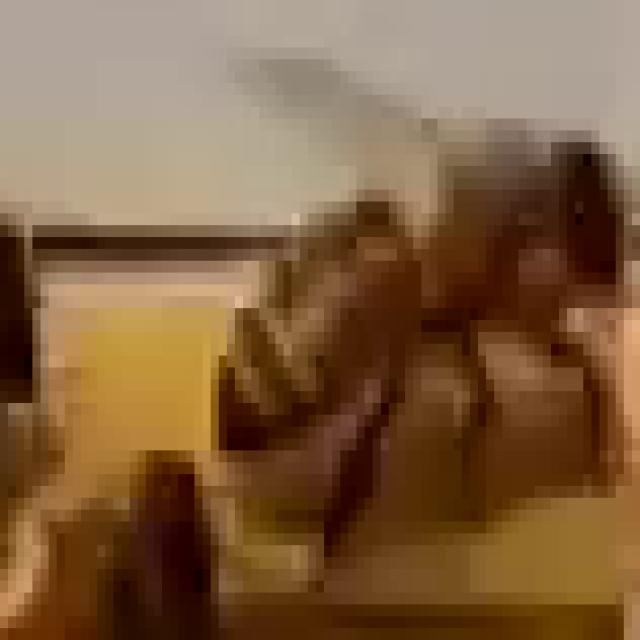honeybee: (213, 156, 610, 542)
